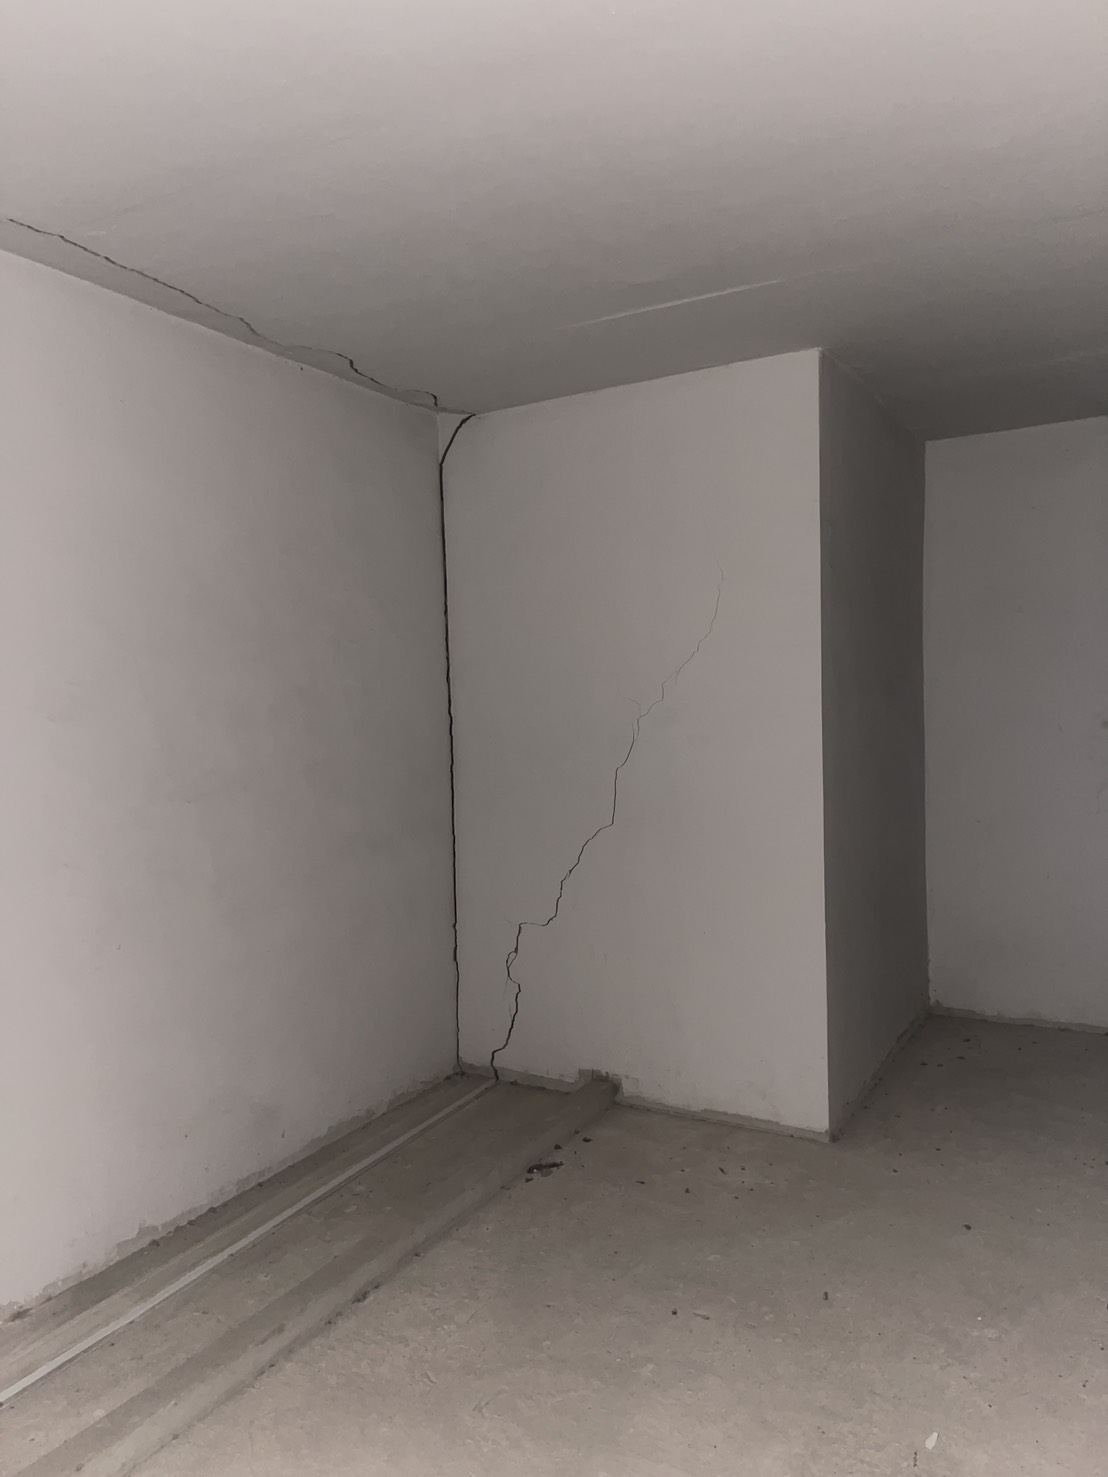Medium: (460, 656, 672, 1059)
